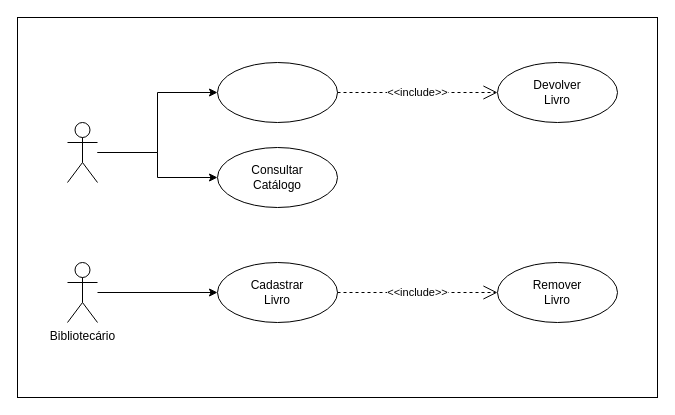
Image size: 675x415. Some labels were removed from this diagram. The centre of each missing label's shape, as x and y in pixels:
Emprestar Livro: the point at 277,92
Usuário: the point at 82,152
